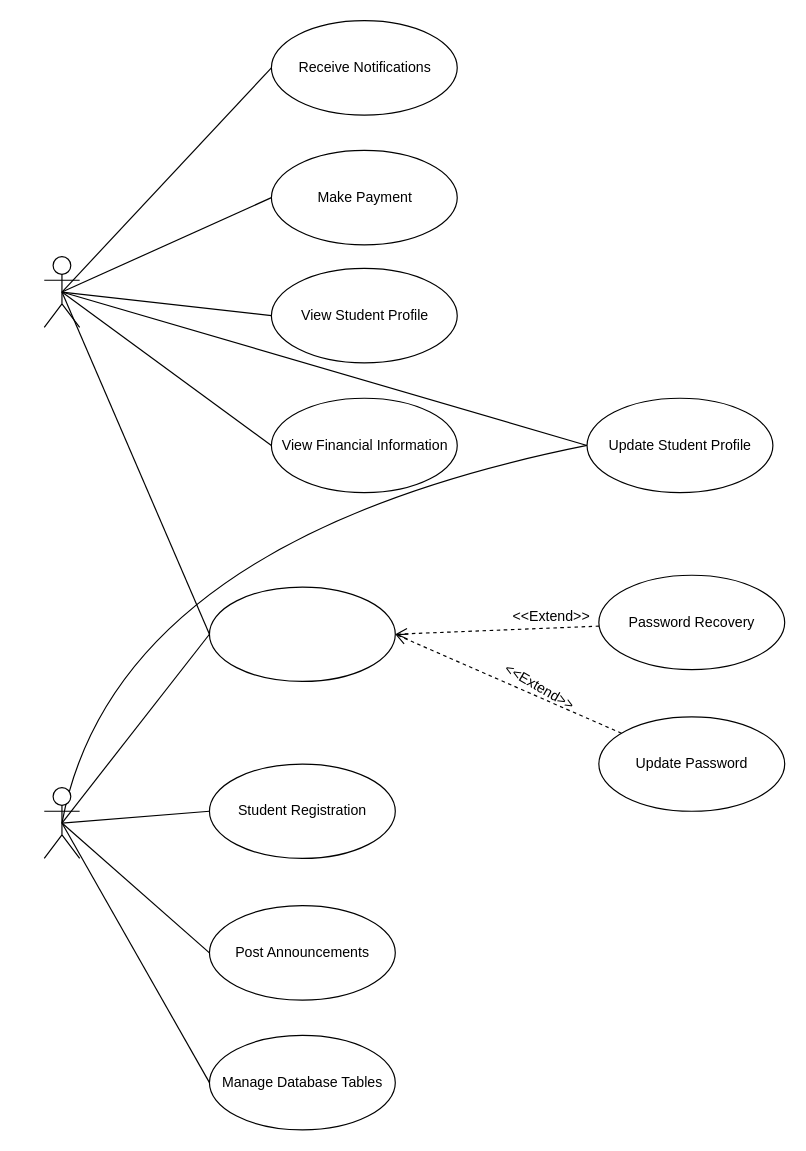
The diagram is 806 pixels wide and 1151 high, and some of its shapes have lost their labels. Here are the shapes that lost their labels. From the top down, the centre of each, then its label:
the point at 61,291: Student
the point at 301,633: Login
the point at 61,822: Administrator
